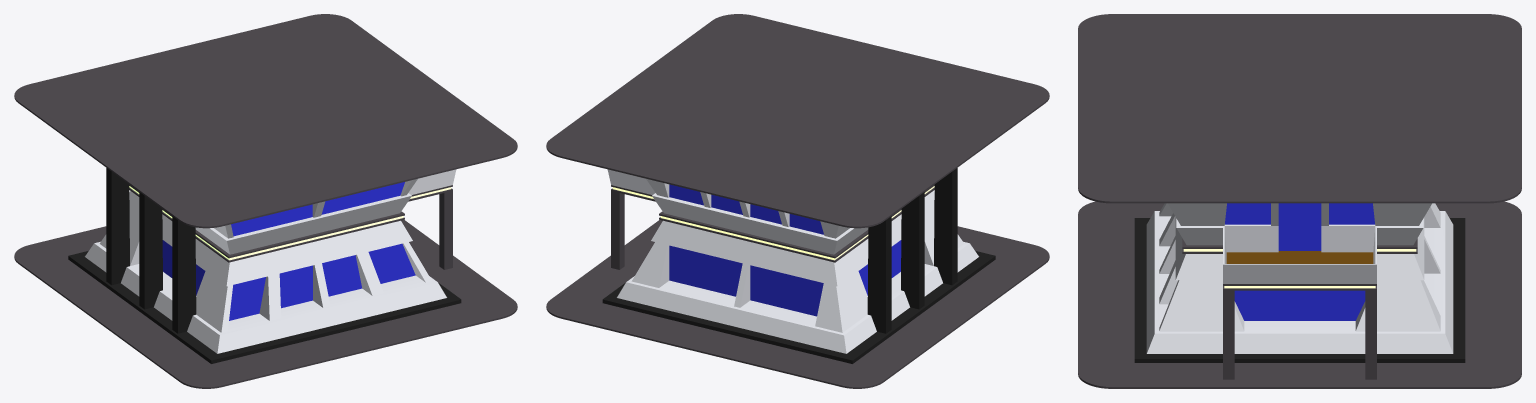
The model's file is SM_B_i8_Roof.fbx.
3 renders of one model, left to right at view 1: azimuth 30°, elevation 25°; view 2: azimuth 150°, elevation 25°; view 3: azimuth 270°, elevation 25°, orthographic. The views are drawn at different scales.
Parts seen in each view (by area): view 1: SM_B_i8_Roof; view 2: SM_B_i8_Roof; view 3: SM_B_i8_Roof.
Part boxes in pixels (x1,y1,x2,y2): SM_B_i8_Roof: (14, 14, 517, 388); SM_B_i8_Roof: (546, 14, 1049, 388); SM_B_i8_Roof: (1078, 14, 1521, 388).
Bounding box in the file's own units: 2100 × 978 × 2100.
